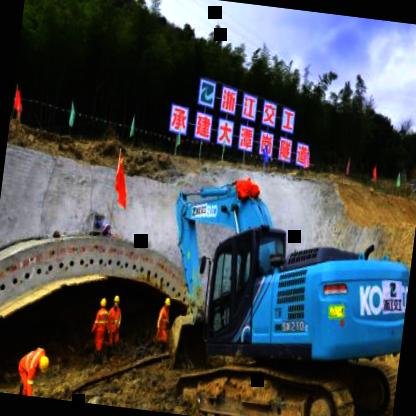helmet: (34, 354, 48, 375), (162, 294, 172, 312), (112, 292, 121, 310), (98, 295, 106, 312)
